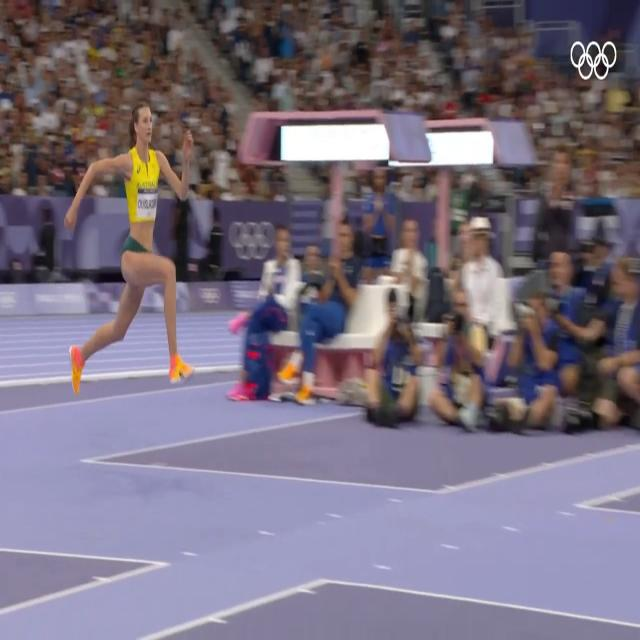run: (64, 104, 200, 395)
